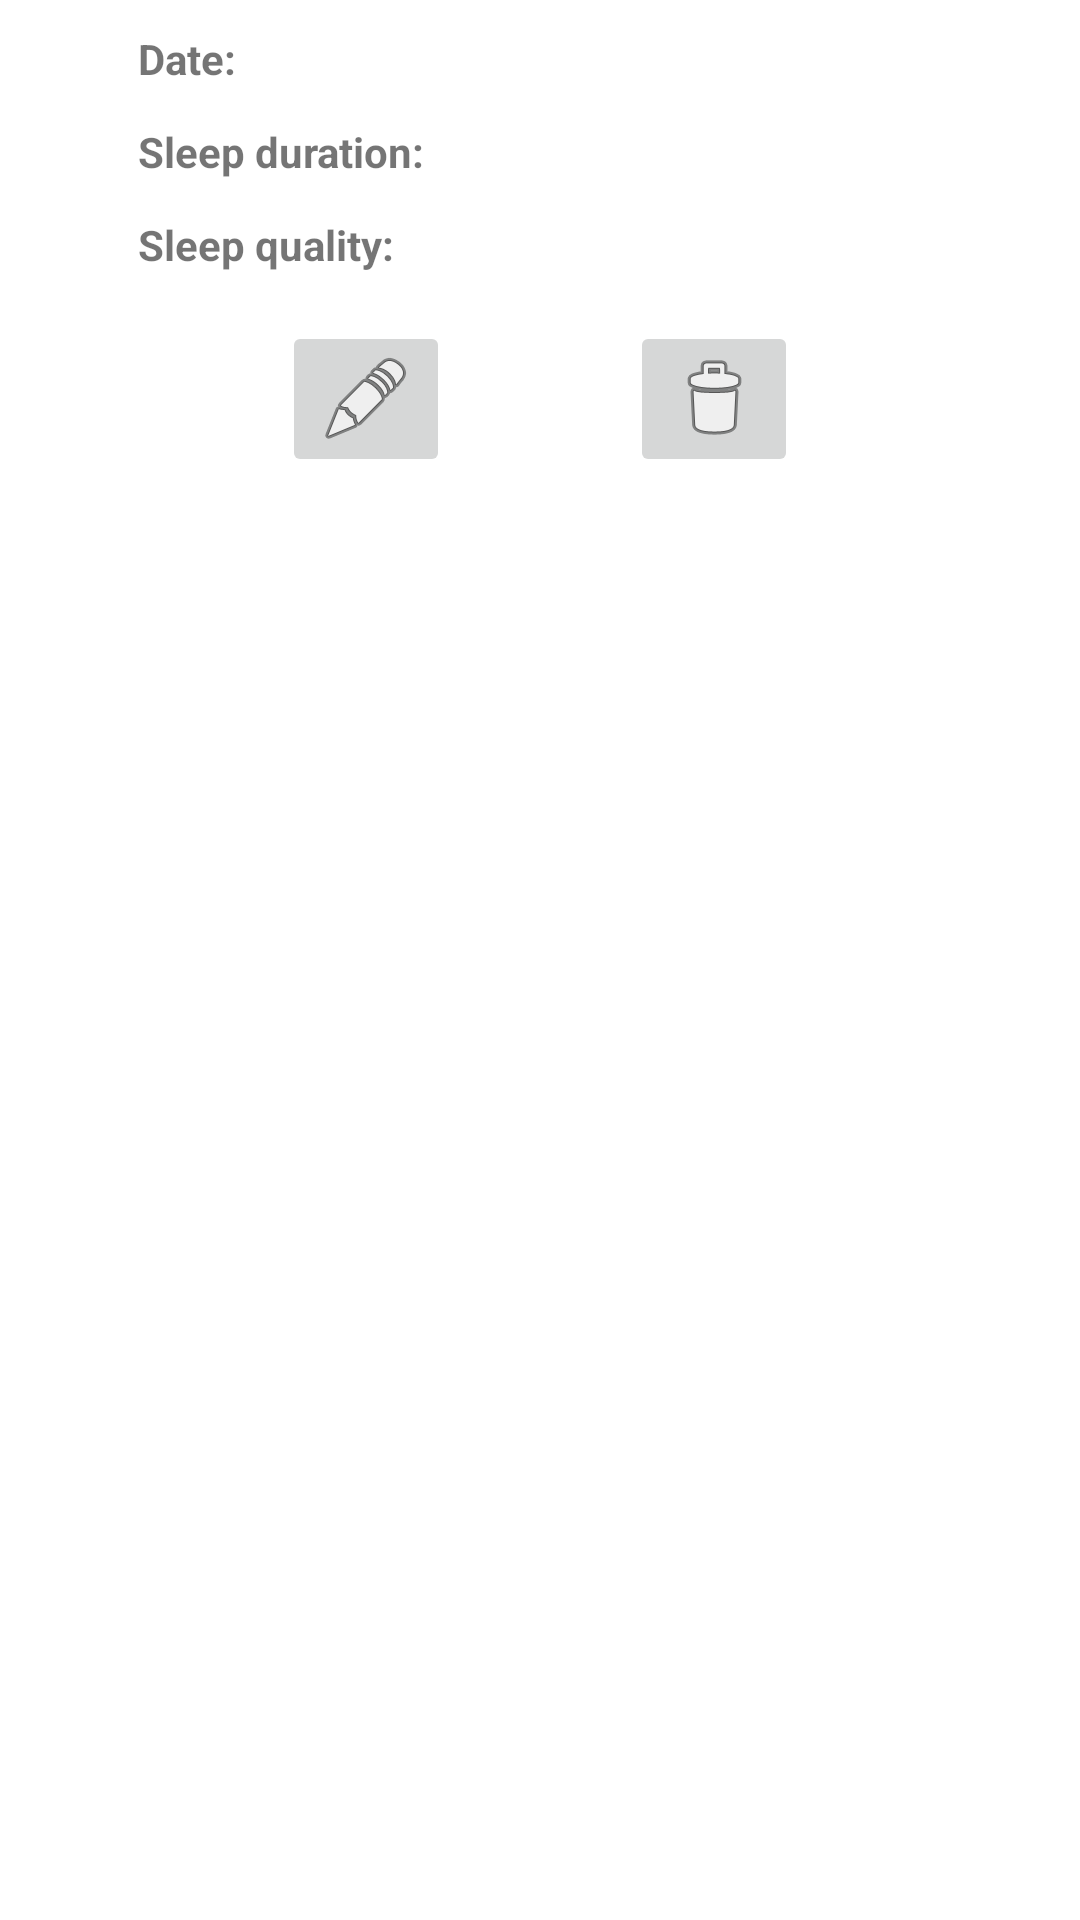

Icon click points for this 1080px×1920px phone screenshot, format point (x, y):
delete: point (714, 399)
edit: point (366, 399)
